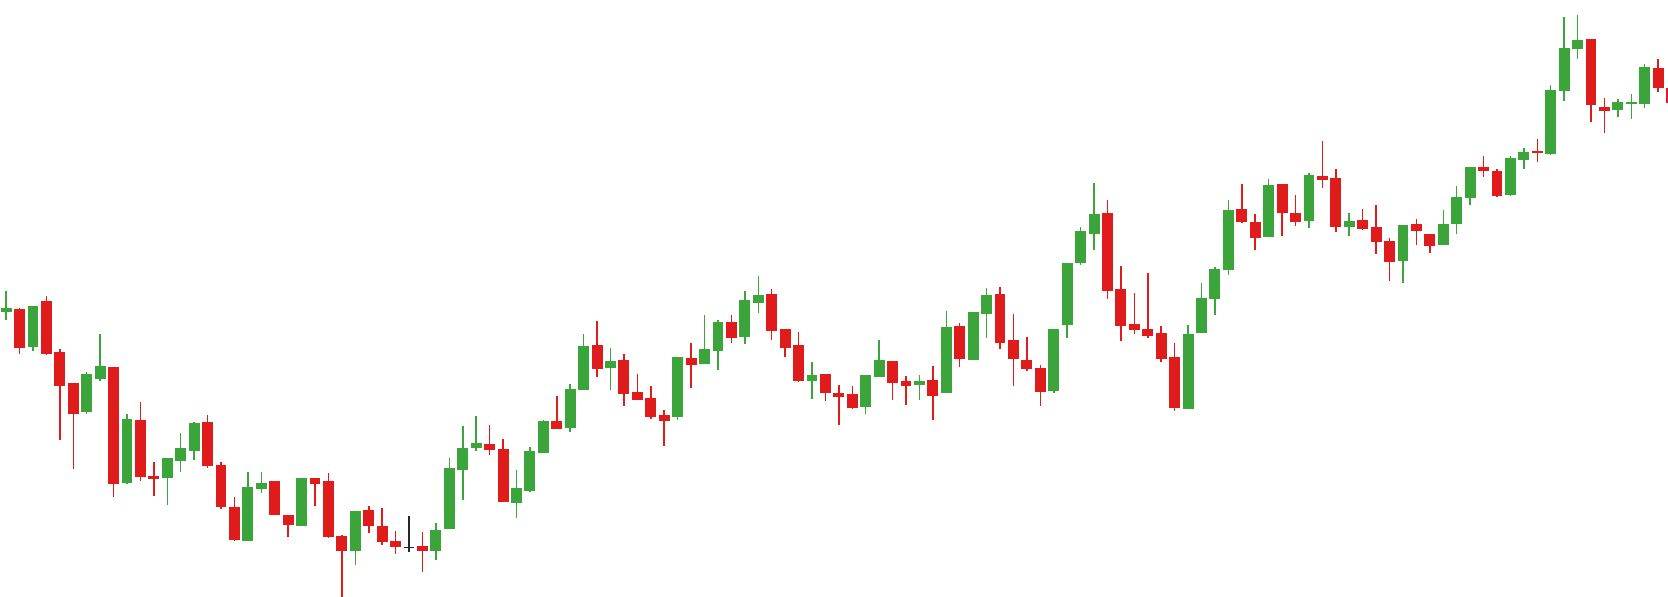buy: (1032, 241, 1196, 426), (230, 482, 361, 597)
